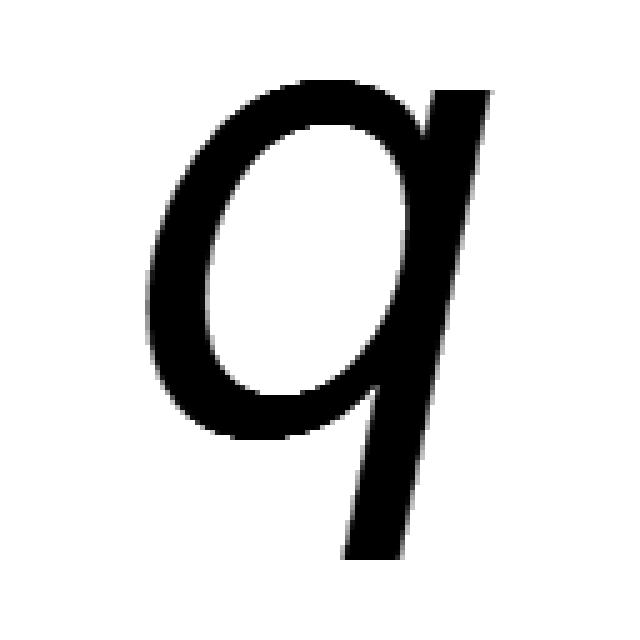Q: (135, 70, 495, 560)
